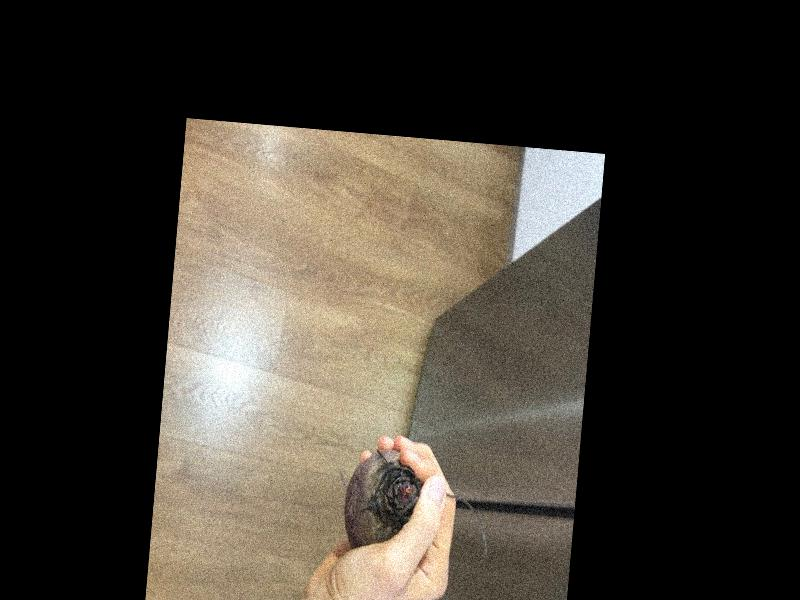Beet: (341, 445, 496, 560)
